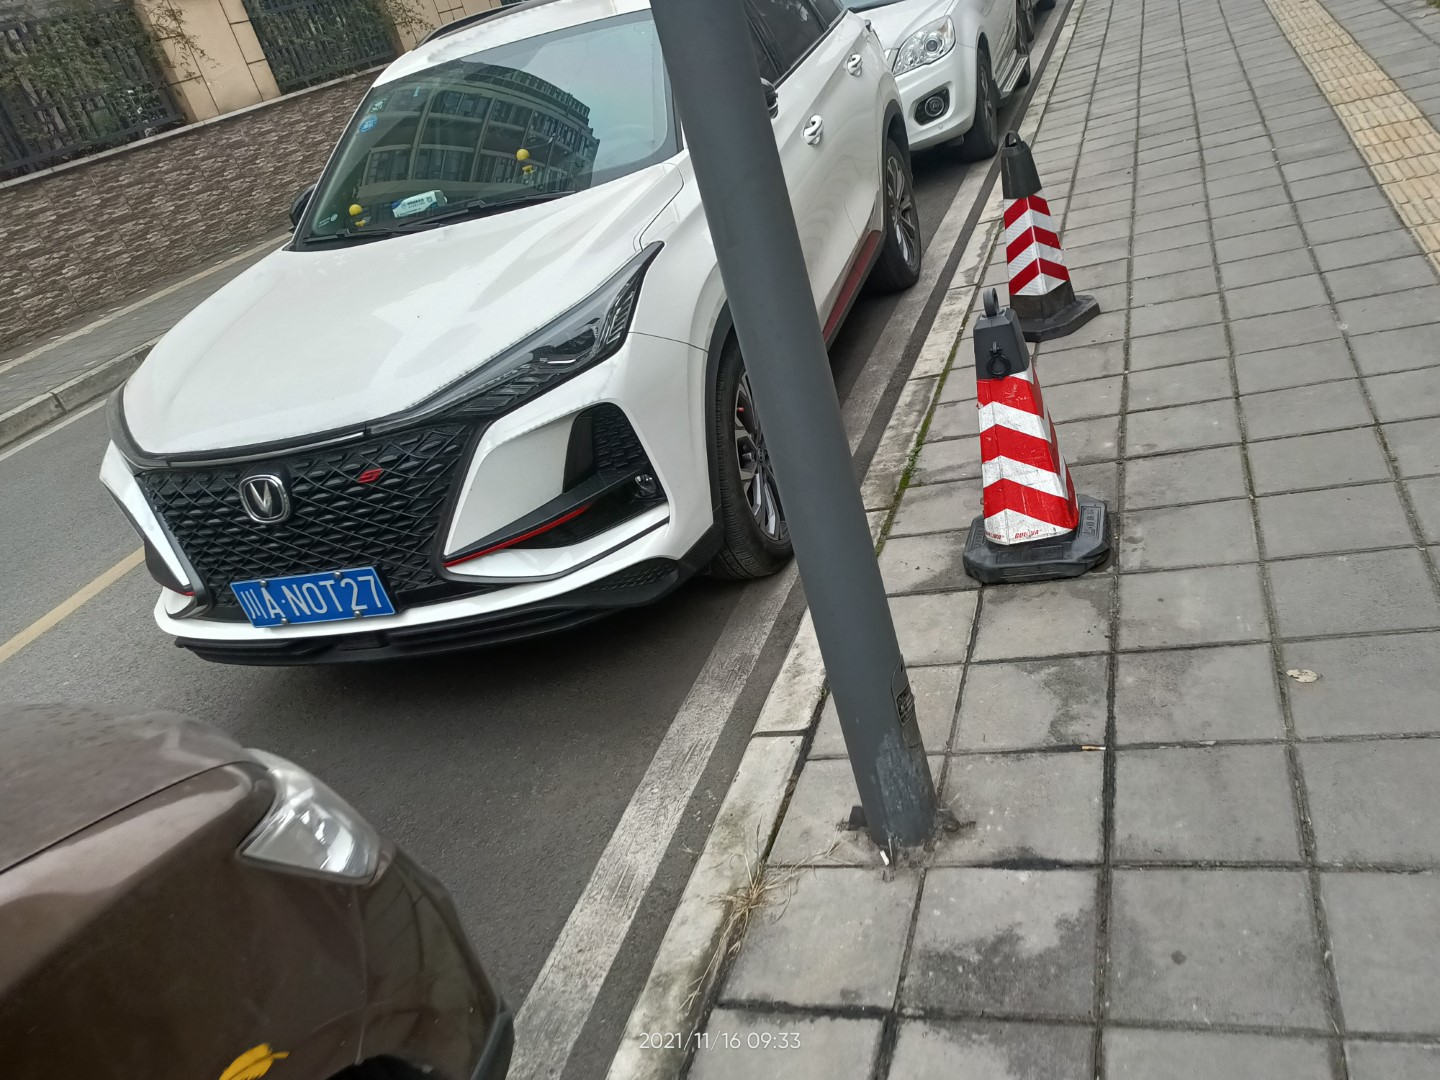plate: (230, 562, 397, 632)
